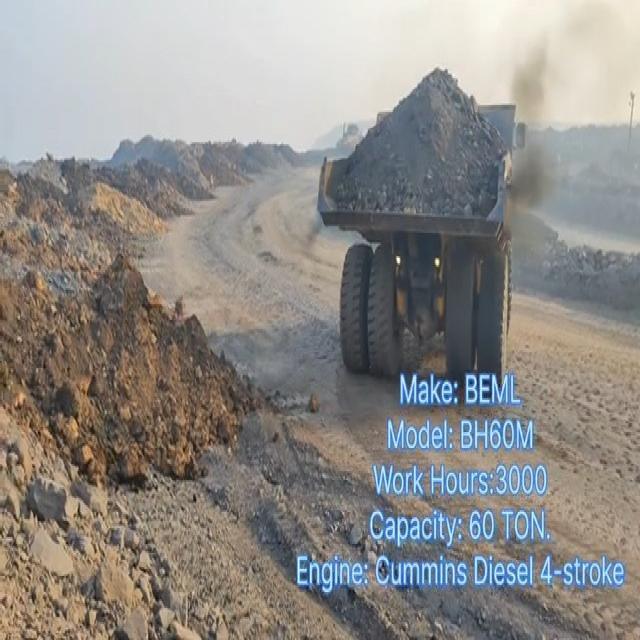dump_truck: (311, 78, 527, 398)
